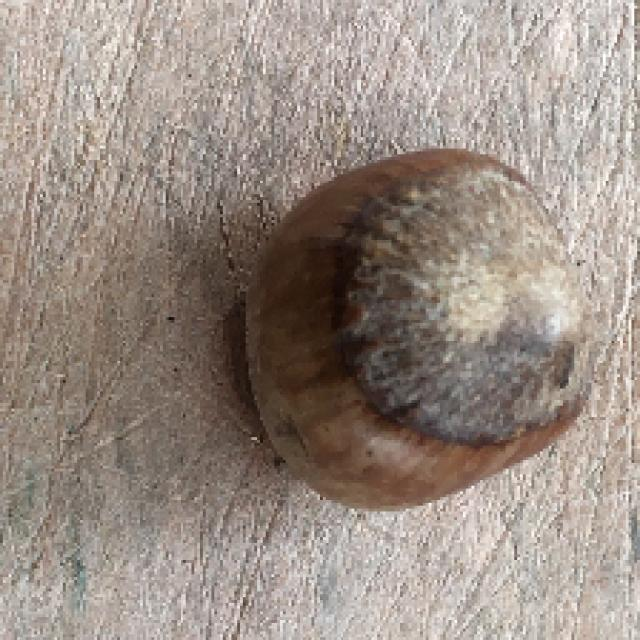damagedHazelnut: (206, 113, 602, 522)
